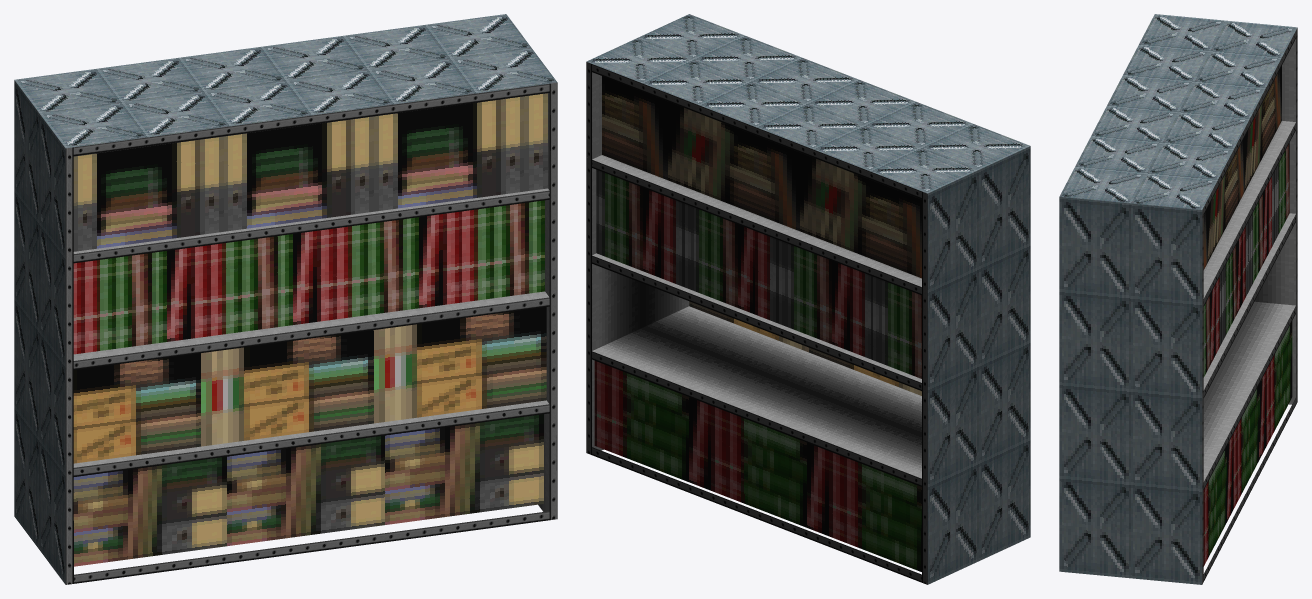
The model's file is primary_057.glb.
3 views of the same model, side by side, from view 1: azimuth 30°, elevation 25°; view 2: azimuth 150°, elevation 25°; view 3: azimuth 270°, elevation 25° (orthographic). The views are drawn at different scales.
Visible parts, largest first — view 1: Object; view 2: Object; view 3: Object.
Boxes of the visible parts, box(x1,y1,x2,y2) form: Object: box(14, 14, 557, 584); Object: box(586, 14, 1030, 584); Object: box(1059, 14, 1297, 584).
Size of the model in its own units: 2.81 by 2.5 by 1.44.
16 materials, 16 textured.
